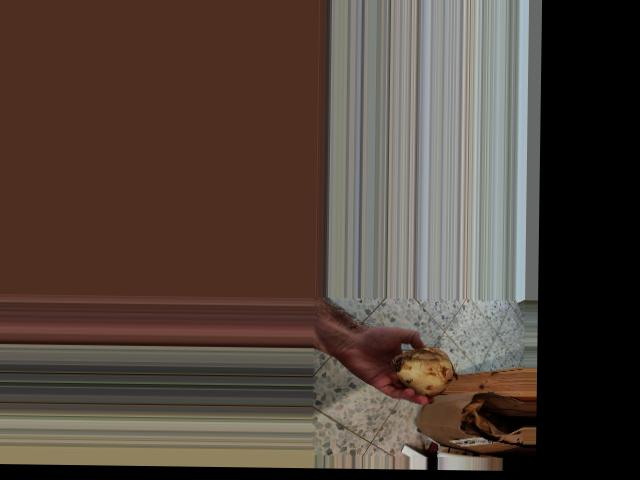onion: (389, 343, 459, 398)
